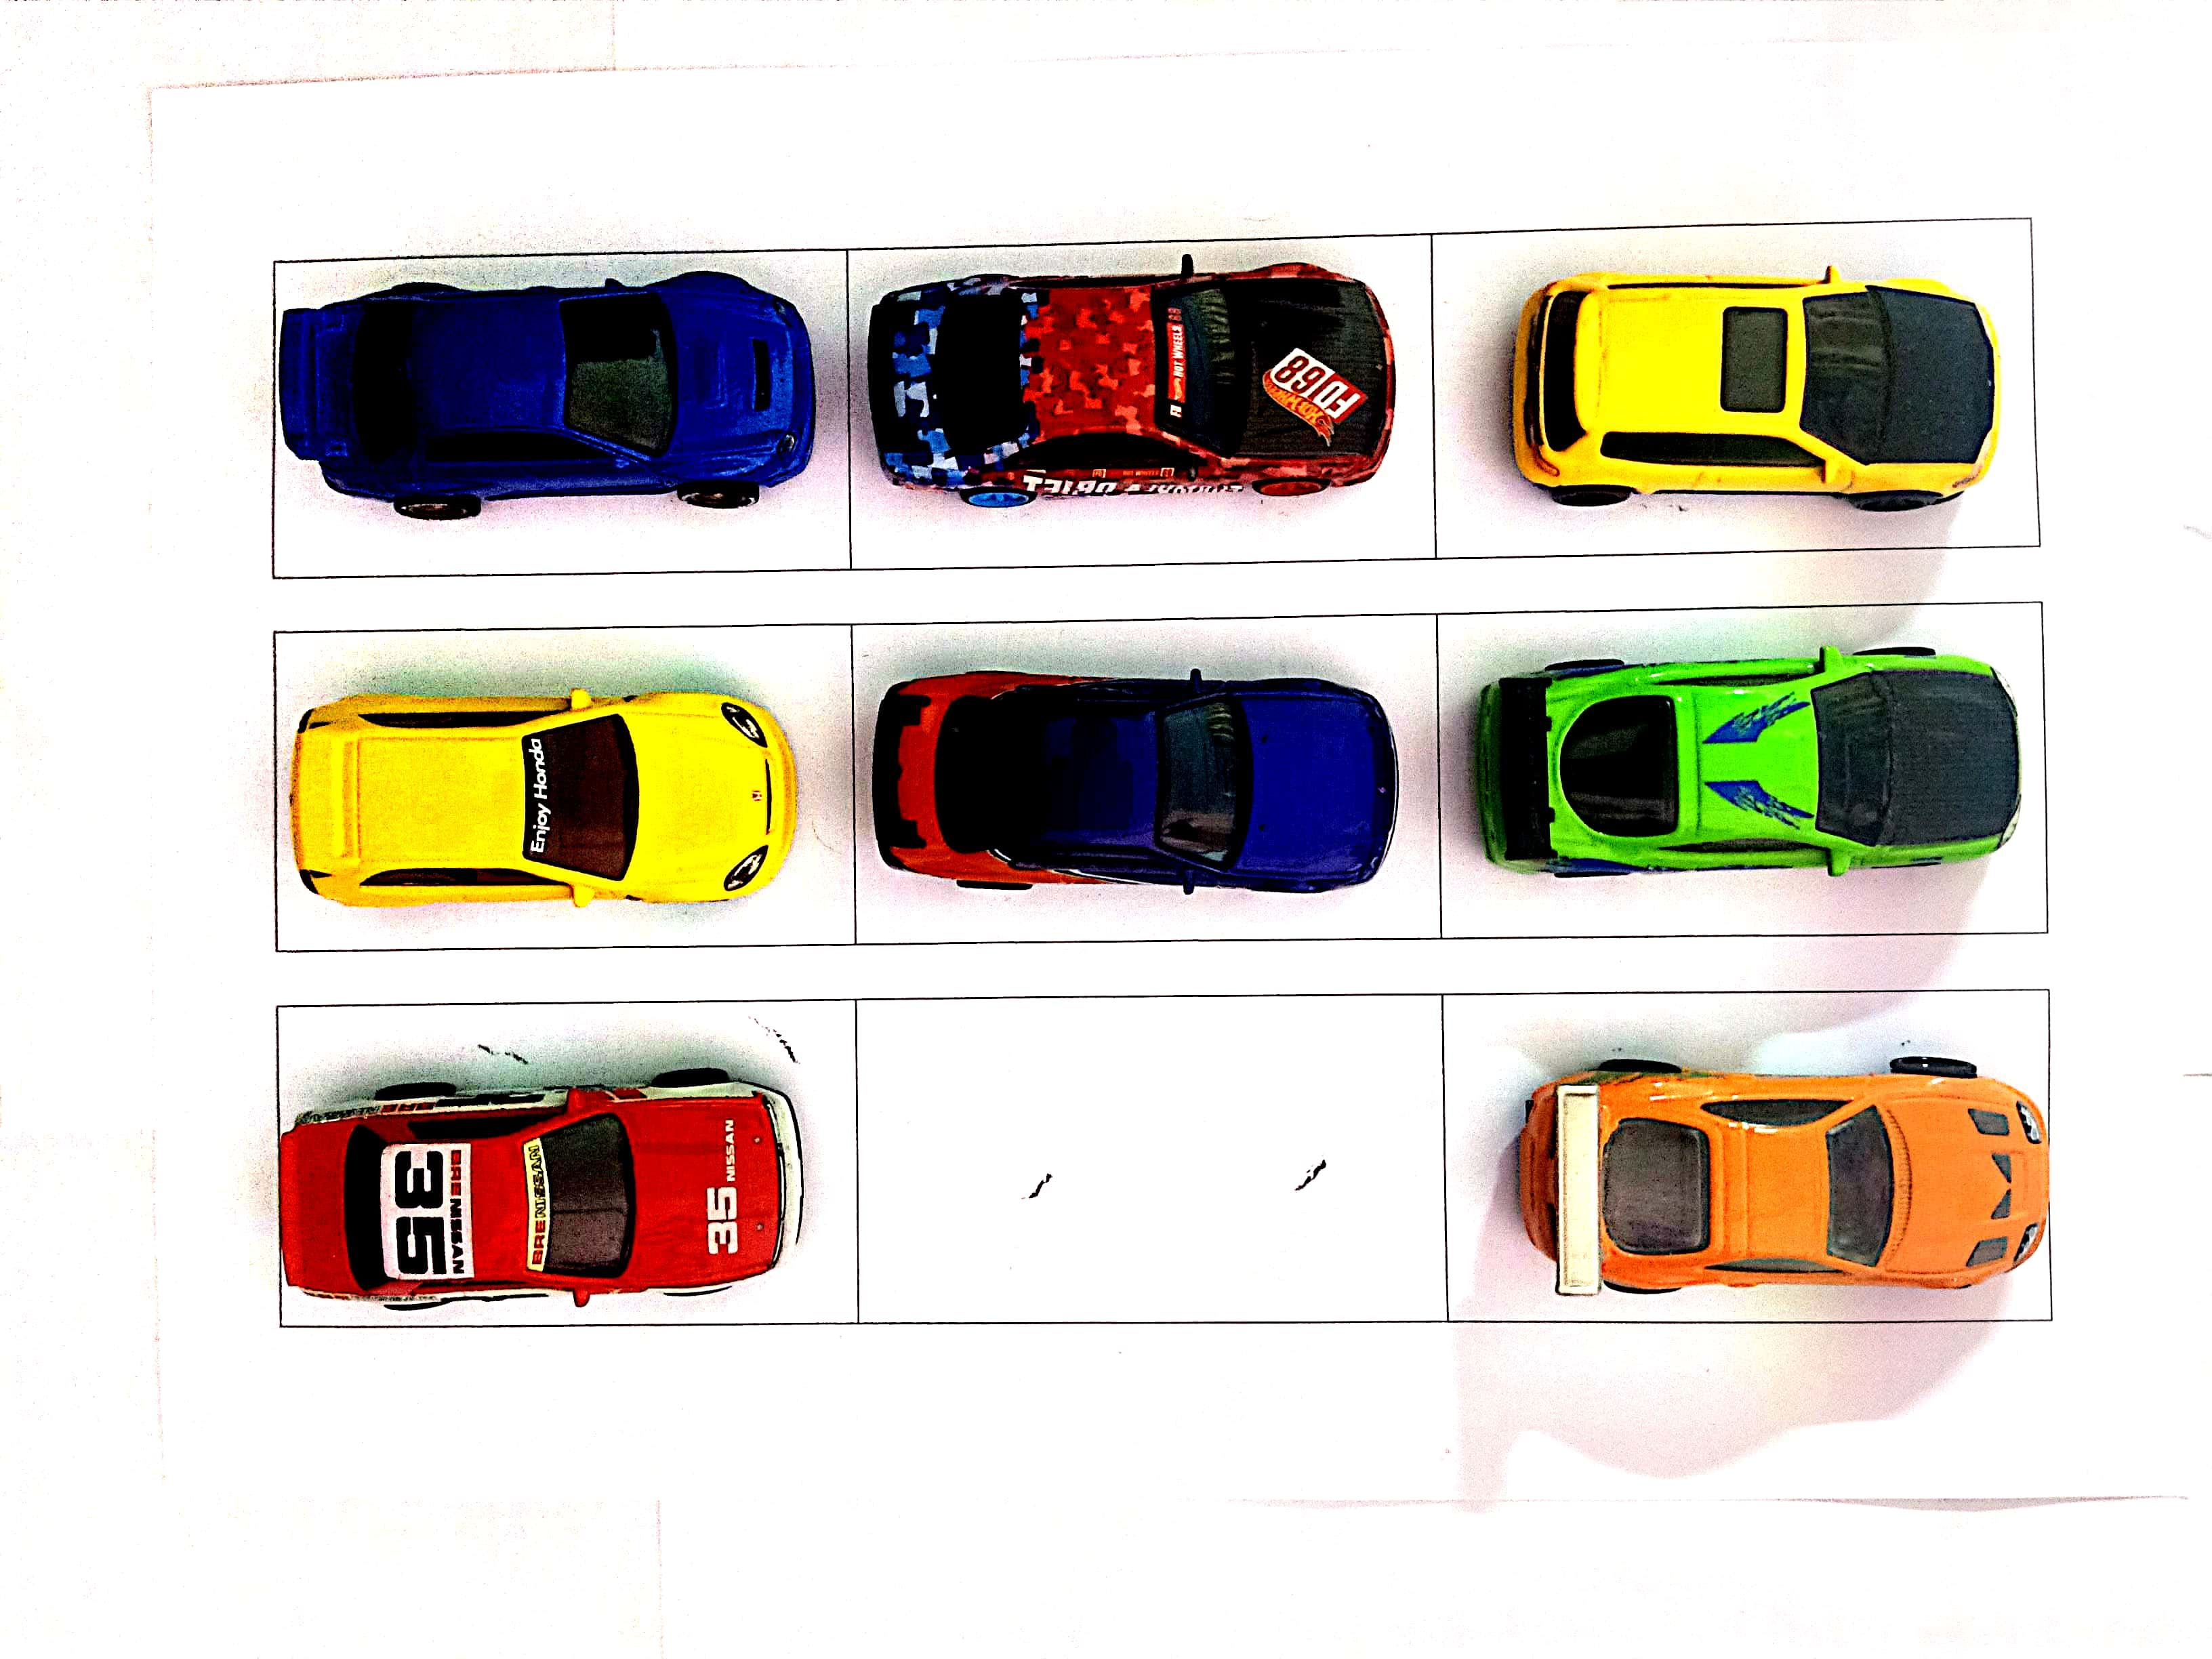Busy: (1439, 992, 2041, 1328), (1439, 599, 2038, 932), (1432, 228, 2027, 556), (852, 247, 1432, 572), (282, 626, 859, 948), (277, 253, 848, 575), (862, 620, 1442, 938), (282, 1009, 853, 1326)
Free: (852, 995, 1437, 1317)
